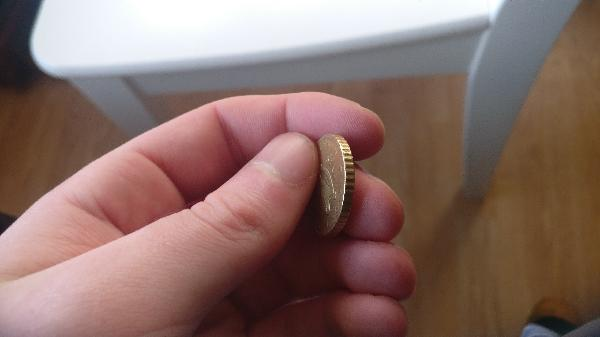Fifty Cent: (309, 136, 359, 241)
